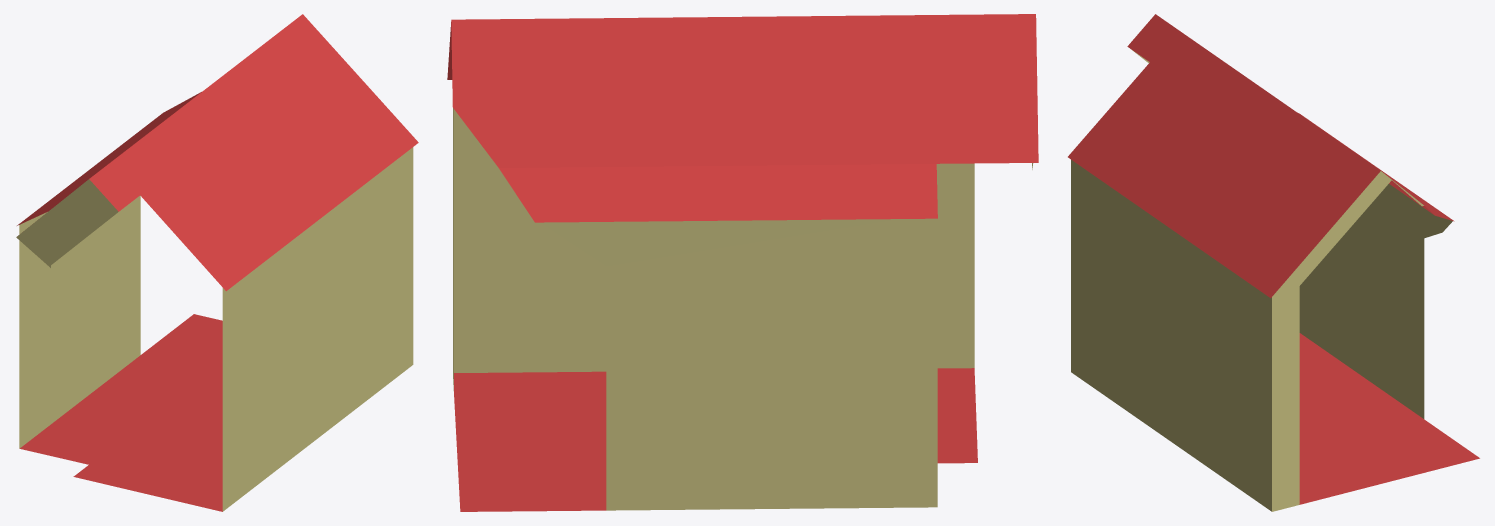
The picture shows the model from 3 angles, left to right: view 1: azimuth 30°, elevation 25°; view 2: azimuth 150°, elevation 25°; view 3: azimuth 270°, elevation 25°; orthographic projection. The views are drawn at different scales.
Bounding box in the file's own units: 30.12 × 25.85 × 21.77.
